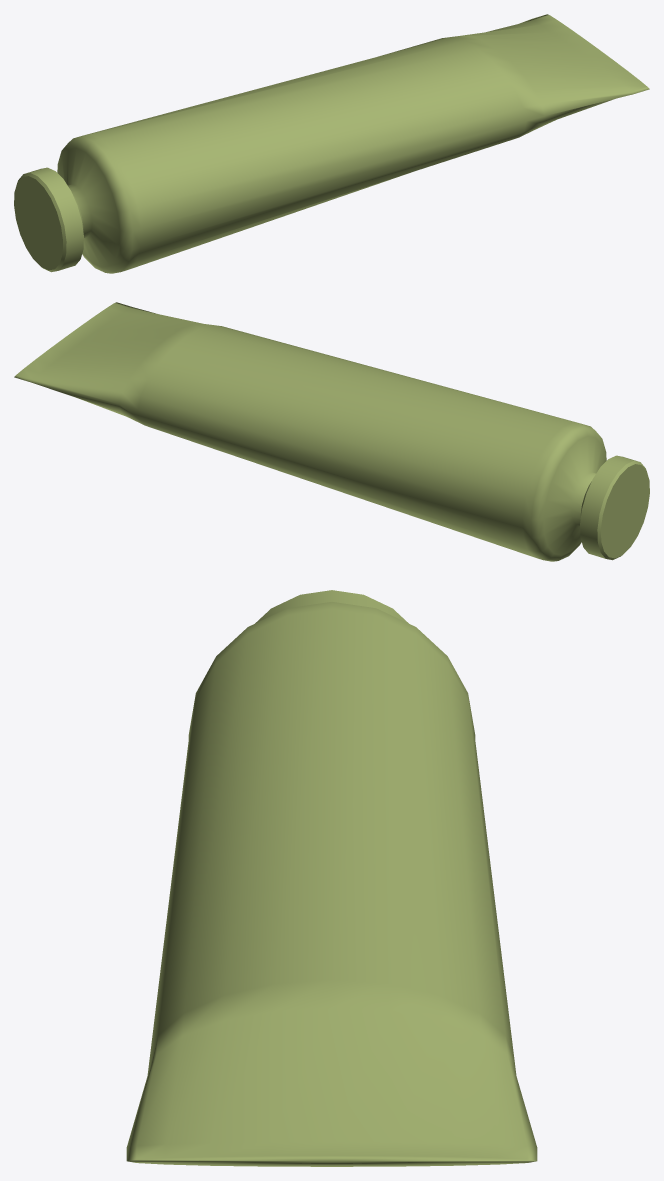
File: Paint_tubes.fbx
3 views of the same model, one above another, from view 1: azimuth 30°, elevation 25°; view 2: azimuth 150°, elevation 25°; view 3: azimuth 270°, elevation 25° (orthographic). The views are drawn at different scales.
Visible parts, largest first — view 1: polySurface26; view 2: polySurface26; view 3: polySurface26.
Boxes of the visible parts, x1,y1,x2,y2 form: polySurface26: [14, 14, 649, 273]; polySurface26: [14, 302, 649, 561]; polySurface26: [126, 590, 537, 1166].
Size of the model in its own units: 0.1675 by 0.0368 by 0.0529.
